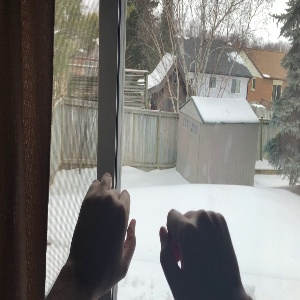hand: (156, 209, 248, 298), (66, 173, 137, 279)
